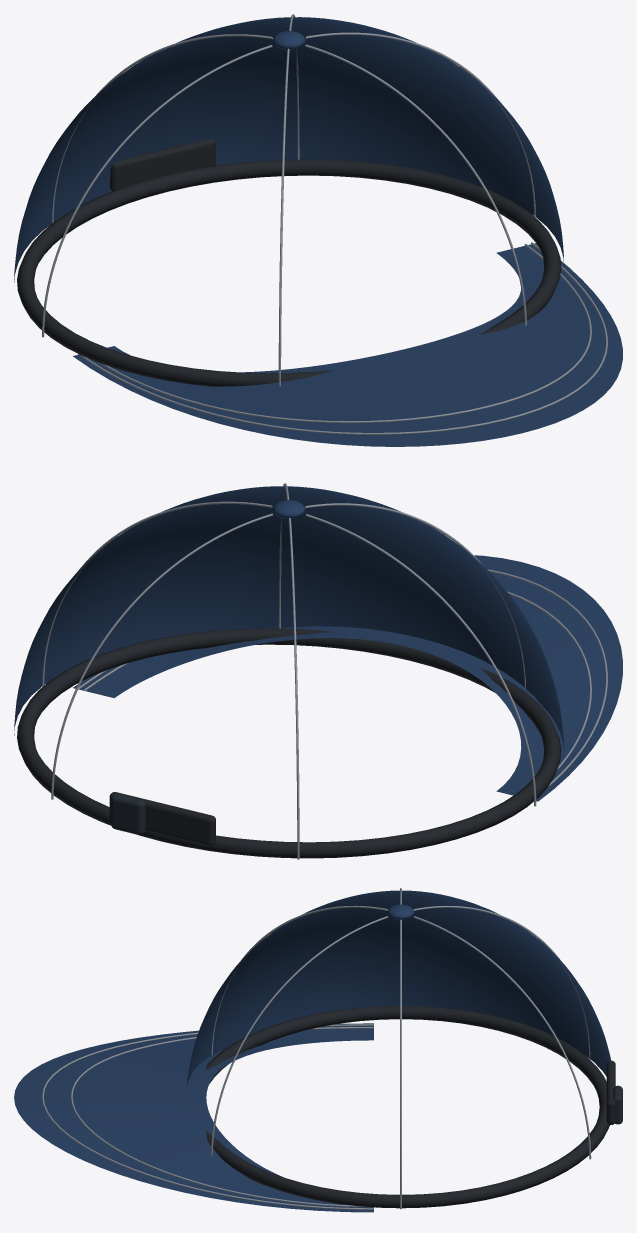
Rendered from everyday_cap.glb.
3 views of the same model, one above another, from view 1: azimuth 30°, elevation 25°; view 2: azimuth 150°, elevation 25°; view 3: azimuth 270°, elevation 25° (orthographic). The views are drawn at different scales.
Visible parts, largest first — view 1: cap:CapV4_CottonTwill, cap:CapV4_Sweatband, cap:Atelier_TonalStitch; view 2: cap:CapV4_CottonTwill, cap:CapV4_Sweatband, cap:Atelier_TonalStitch, cap:Atelier_AnodizedMetal; view 3: cap:CapV4_CottonTwill, cap:CapV4_Sweatband, cap:Atelier_TonalStitch.
Part boxes in pixels (x1,y1,x2,y2): cap:CapV4_CottonTwill: [14, 17, 622, 446]; cap:CapV4_Sweatband: [17, 138, 561, 386]; cap:Atelier_TonalStitch: [42, 14, 607, 434]; cap:CapV4_CottonTwill: [14, 486, 622, 801]; cap:CapV4_Sweatband: [17, 628, 561, 858]; cap:Atelier_TonalStitch: [42, 483, 607, 859]; cap:Atelier_AnodizedMetal: [111, 794, 145, 834]; cap:CapV4_CottonTwill: [14, 890, 612, 1212]; cap:CapV4_Sweatband: [205, 1005, 615, 1208]; cap:Atelier_TonalStitch: [42, 888, 591, 1209].
Size of the model in its own units: 0.2123 by 0.1073 by 0.2722.
